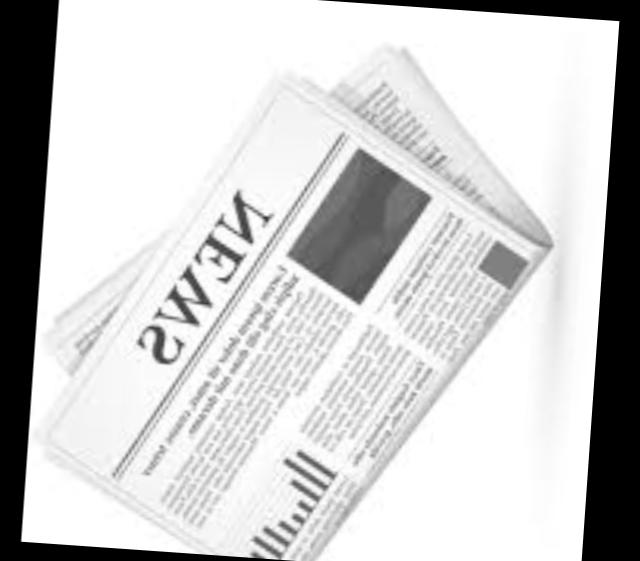cardboard paper: (37, 43, 546, 560)
